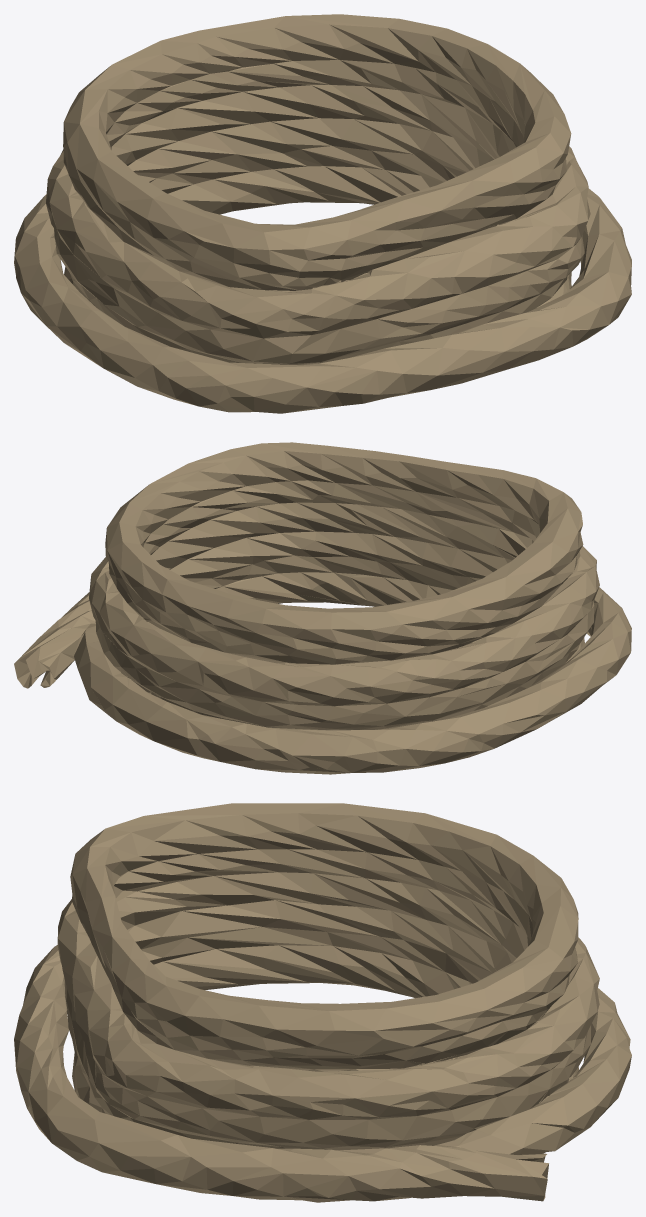
Rendered from HempRopeCoil.fbx.
3 renders of one model, top to bottom at view 1: azimuth 30°, elevation 25°; view 2: azimuth 150°, elevation 25°; view 3: azimuth 270°, elevation 25°, orthographic. The views are drawn at different scales.
Parts seen in each view (by area): view 1: HempRopeCoil; view 2: HempRopeCoil; view 3: HempRopeCoil.
Boxes of the visible parts, x1=… form: HempRopeCoil: x1=14, y1=14, x2=631, y2=413; HempRopeCoil: x1=14, y1=442, x2=631, y2=774; HempRopeCoil: x1=14, y1=803, x2=631, y2=1202.
Size of the model in its own units: 0.5124 by 0.4929 by 0.1668.
